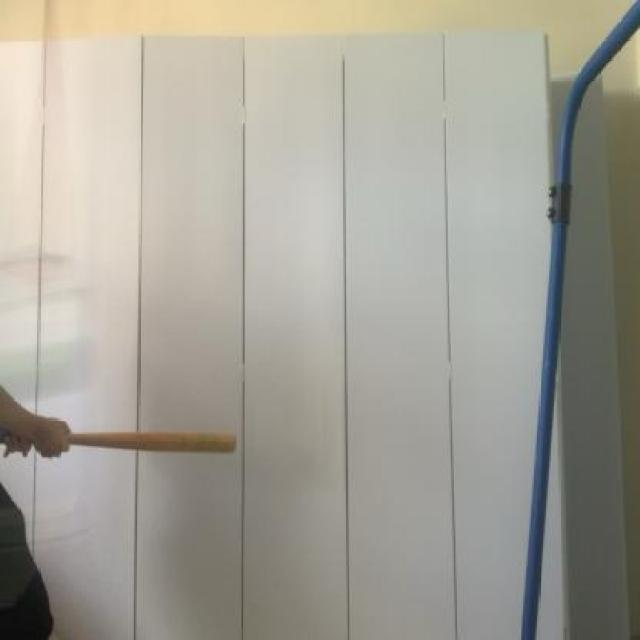baseball: (0, 326, 98, 429)
